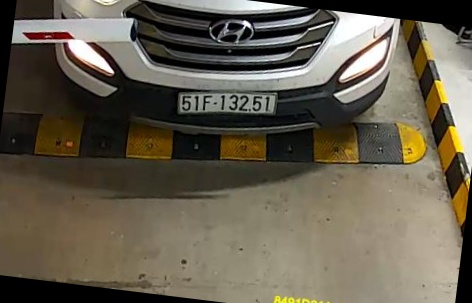plate: (175, 82, 281, 124)
